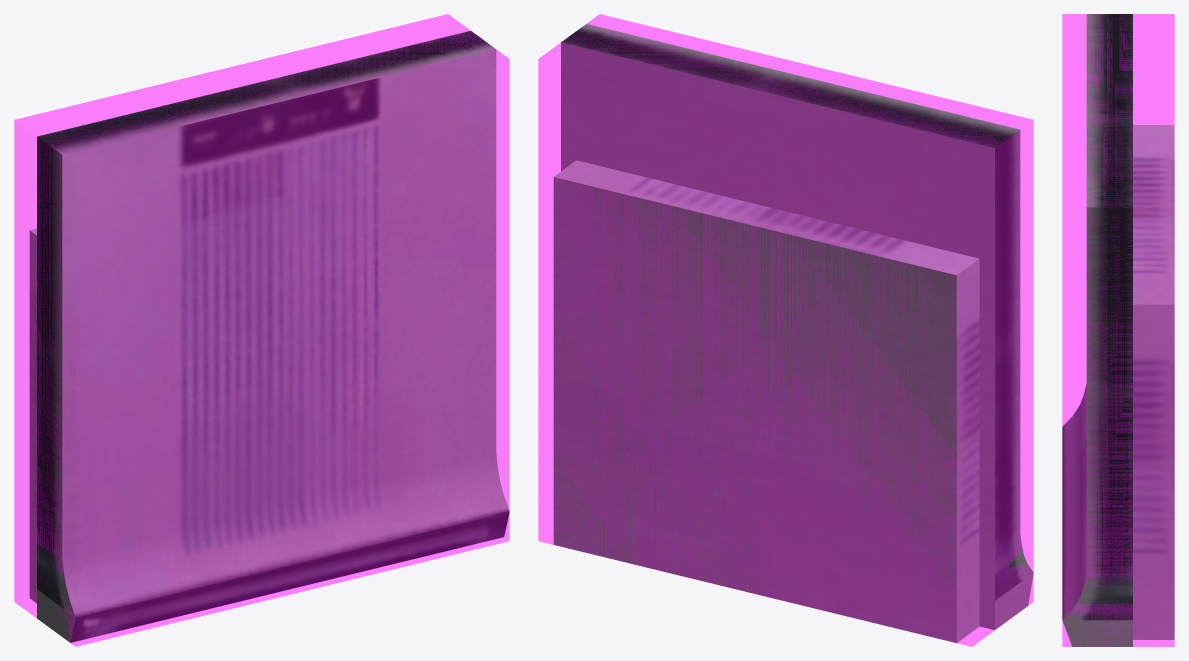
The model's file is aircleaner.fbx.
3 renders of one model, left to right at view 1: azimuth 30°, elevation 25°; view 2: azimuth 150°, elevation 25°; view 3: azimuth 270°, elevation 25°, orthographic. The views are drawn at different scales.
Parts seen in each view (by area): view 1: boundingbox, aircleaner; view 2: aircleaner, boundingbox; view 3: aircleaner, boundingbox.
Part boxes in pixels (x1,y1,x2,y2): boundingbox: (14, 14, 509, 646); aircleaner: (29, 30, 509, 642); aircleaner: (553, 24, 1033, 643); boundingbox: (538, 14, 1033, 646); aircleaner: (1062, 14, 1174, 646); boundingbox: (1062, 14, 1174, 646).
Bounding box in the file's own units: 40.5 × 43 × 9.95.
Materials: 2 (1 with a texture image).
